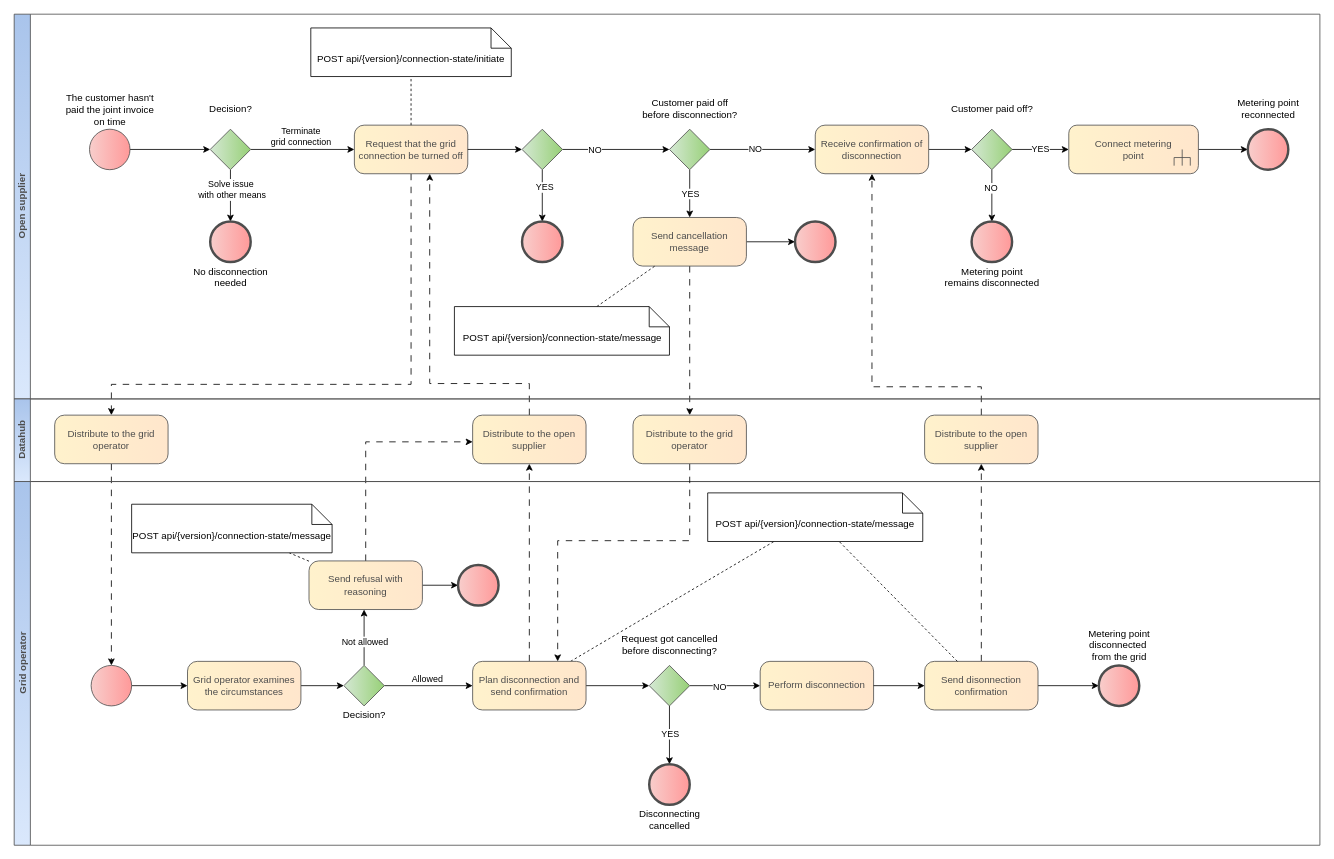
The diagram is 1334 pixels wide and 859 high, and some of its shapes have lost their labels. Each missing label, with the centre of its shape:
"Diconnection cancelled" belongs at (815,241).
"Diconnection refused" belongs at (542,241).
"Disconnection refused" belongs at (478,584).
"Refused?" belongs at (542,149).
